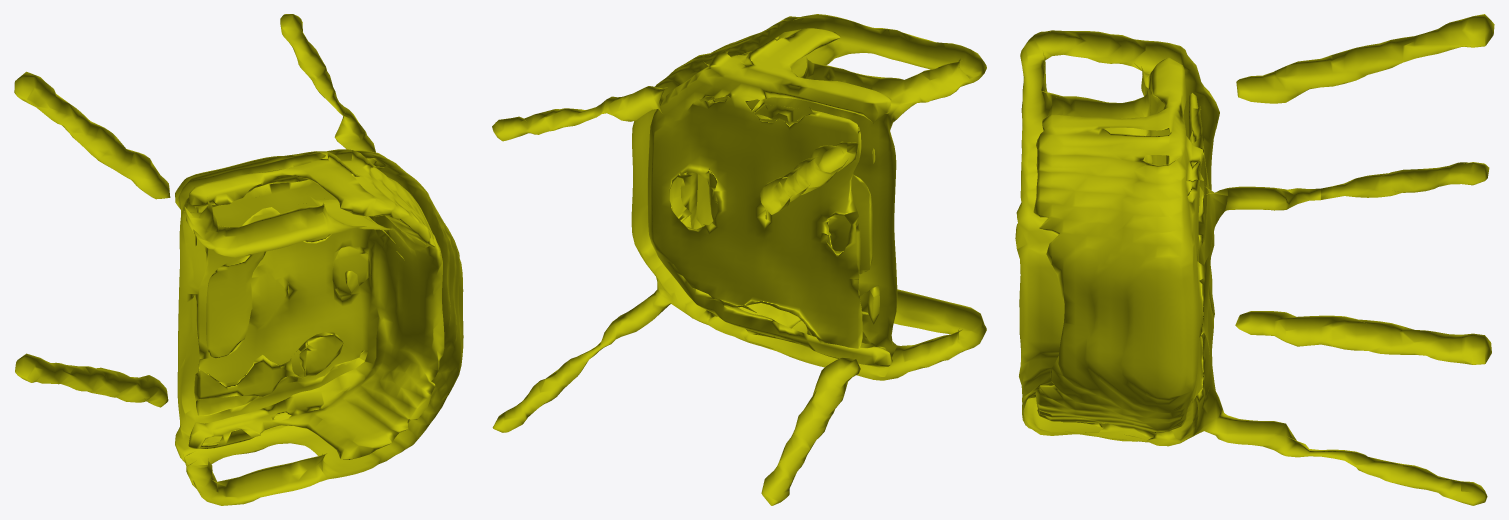
3 views of the same model, side by side, from view 1: azimuth 30°, elevation 25°; view 2: azimuth 150°, elevation 25°; view 3: azimuth 270°, elevation 25° (orthographic). The views are drawn at different scales.
Parts seen in each view (by area): view 1: world; view 2: world; view 3: world.
Part boxes in pixels (x1,y1,x2,y2): world: (14, 14, 463, 505); world: (492, 14, 986, 505); world: (1015, 14, 1494, 505).
Size of the model in its own units: 31.82 by 33.07 by 40.96.
